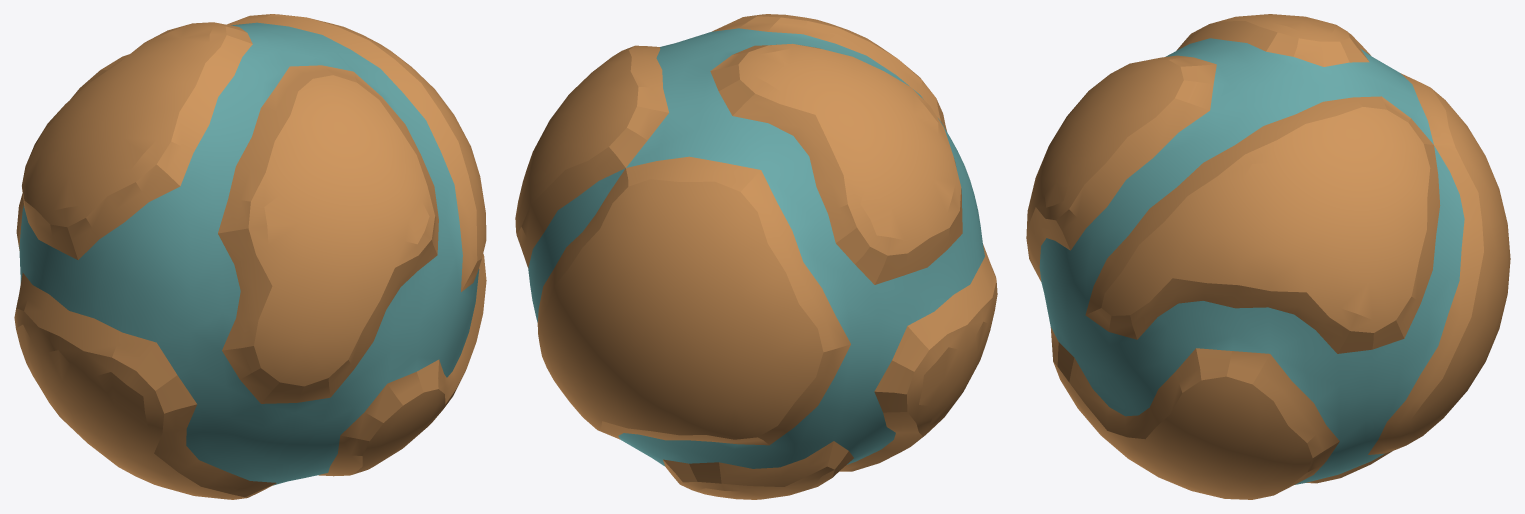
File: blue_rocky.glb
3 views of the same model, side by side, from view 1: azimuth 30°, elevation 25°; view 2: azimuth 150°, elevation 25°; view 3: azimuth 270°, elevation 25° (orthographic).
Parts seen in each view (by area): view 1: Planet_2; view 2: Planet_2; view 3: Planet_2.
Boxes of the visible parts, left/top/right/bottom form: Planet_2: left=14, top=14, right=486, bottom=499; Planet_2: left=515, top=14, right=997, bottom=499; Planet_2: left=1026, top=14, right=1510, bottom=499.
Size of the model in its own units: 3.8 by 3.82 by 3.84.
Materials: 1 (1 with a texture image).
